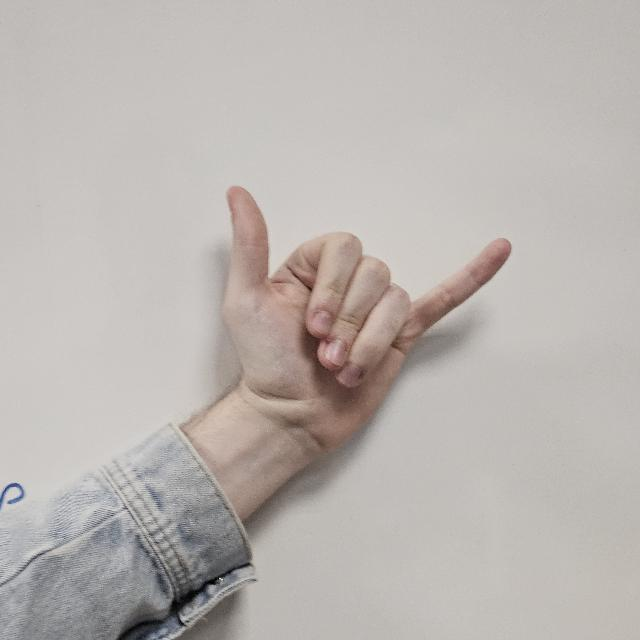Direita: (198, 166, 524, 444)
